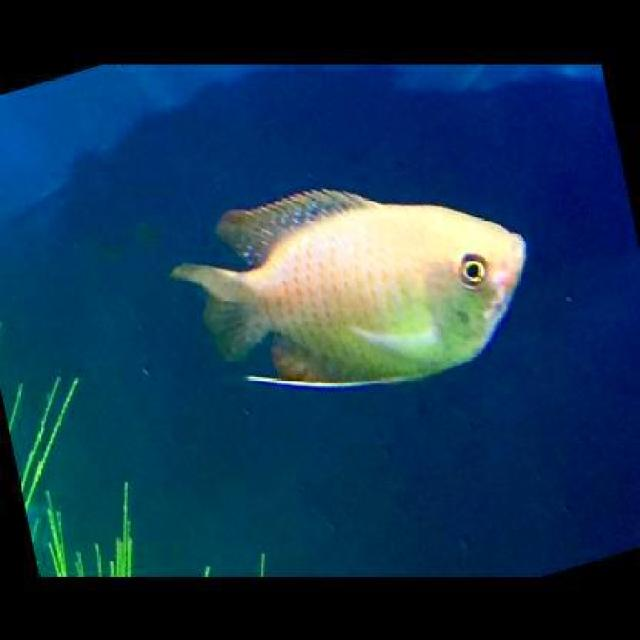Gourami: (170, 184, 532, 390)
